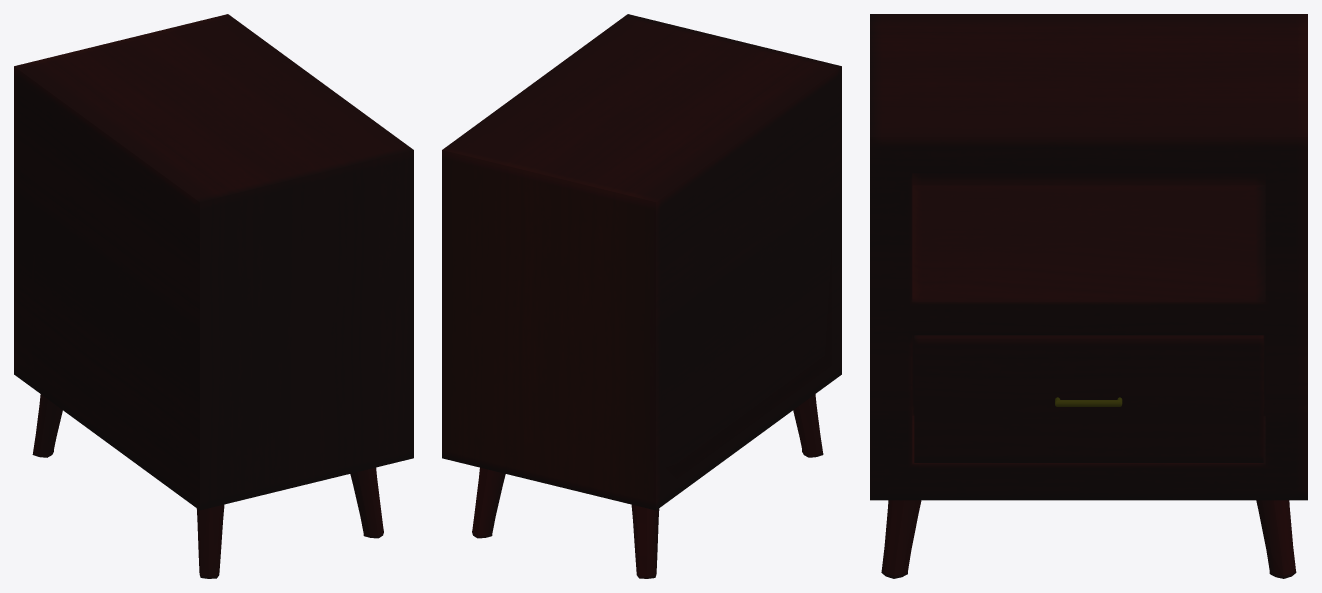
Rendered from drawer-big.glb.
The picture shows the model from 3 angles, left to right: view 1: azimuth 30°, elevation 25°; view 2: azimuth 150°, elevation 25°; view 3: azimuth 270°, elevation 25°; orthographic projection. The views are drawn at different scales.
Visible parts, largest first — view 1: room2_dresser_big; view 2: room2_dresser_big; view 3: room2_dresser_big.
Boxes of the visible parts, x1=… form: room2_dresser_big: x1=14, y1=14, x2=413, y2=578; room2_dresser_big: x1=442, y1=14, x2=841, y2=578; room2_dresser_big: x1=870, y1=14, x2=1307, y2=578.
Size of the model in its own units: 1.34 by 2.19 by 1.92.
Materials: 1 (1 with a texture image).
